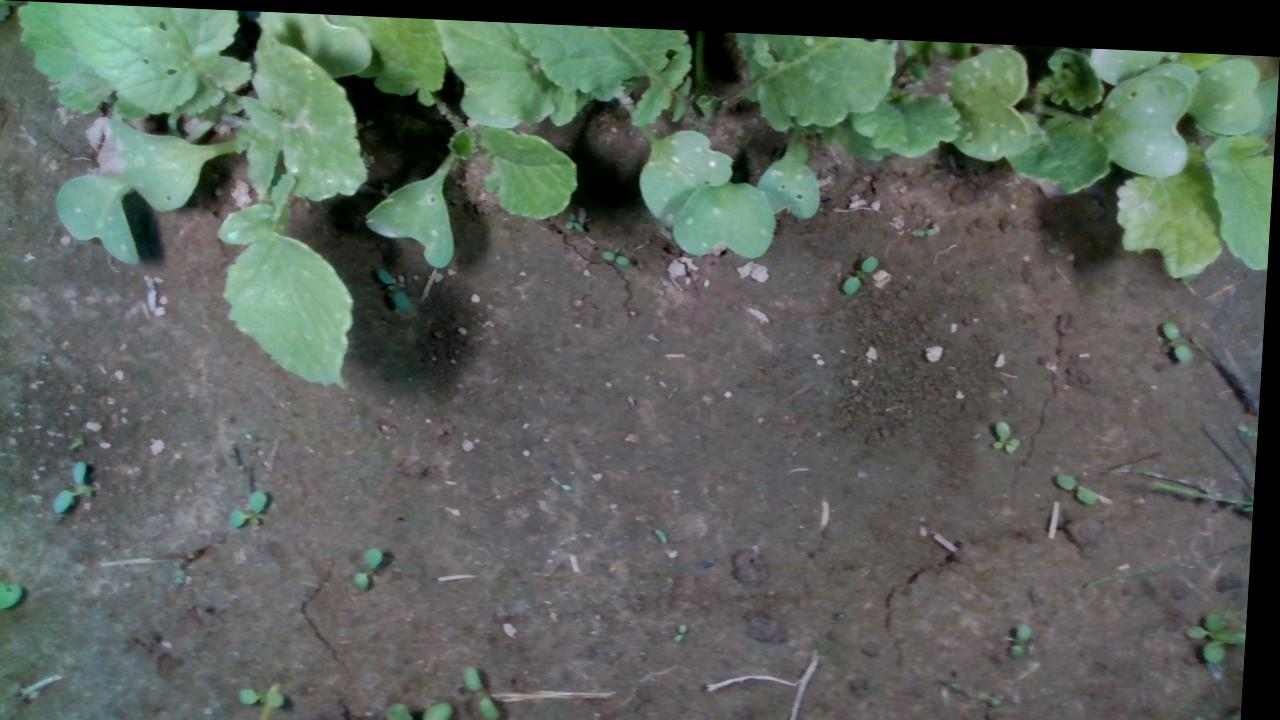weed: (467, 659, 511, 716), (54, 454, 93, 514), (375, 261, 417, 312), (233, 484, 274, 527), (842, 246, 883, 288), (357, 539, 391, 586), (1163, 309, 1198, 354), (1060, 461, 1104, 496), (995, 409, 1027, 443), (1014, 611, 1040, 651), (565, 204, 585, 228), (602, 243, 632, 258), (680, 615, 694, 636)
